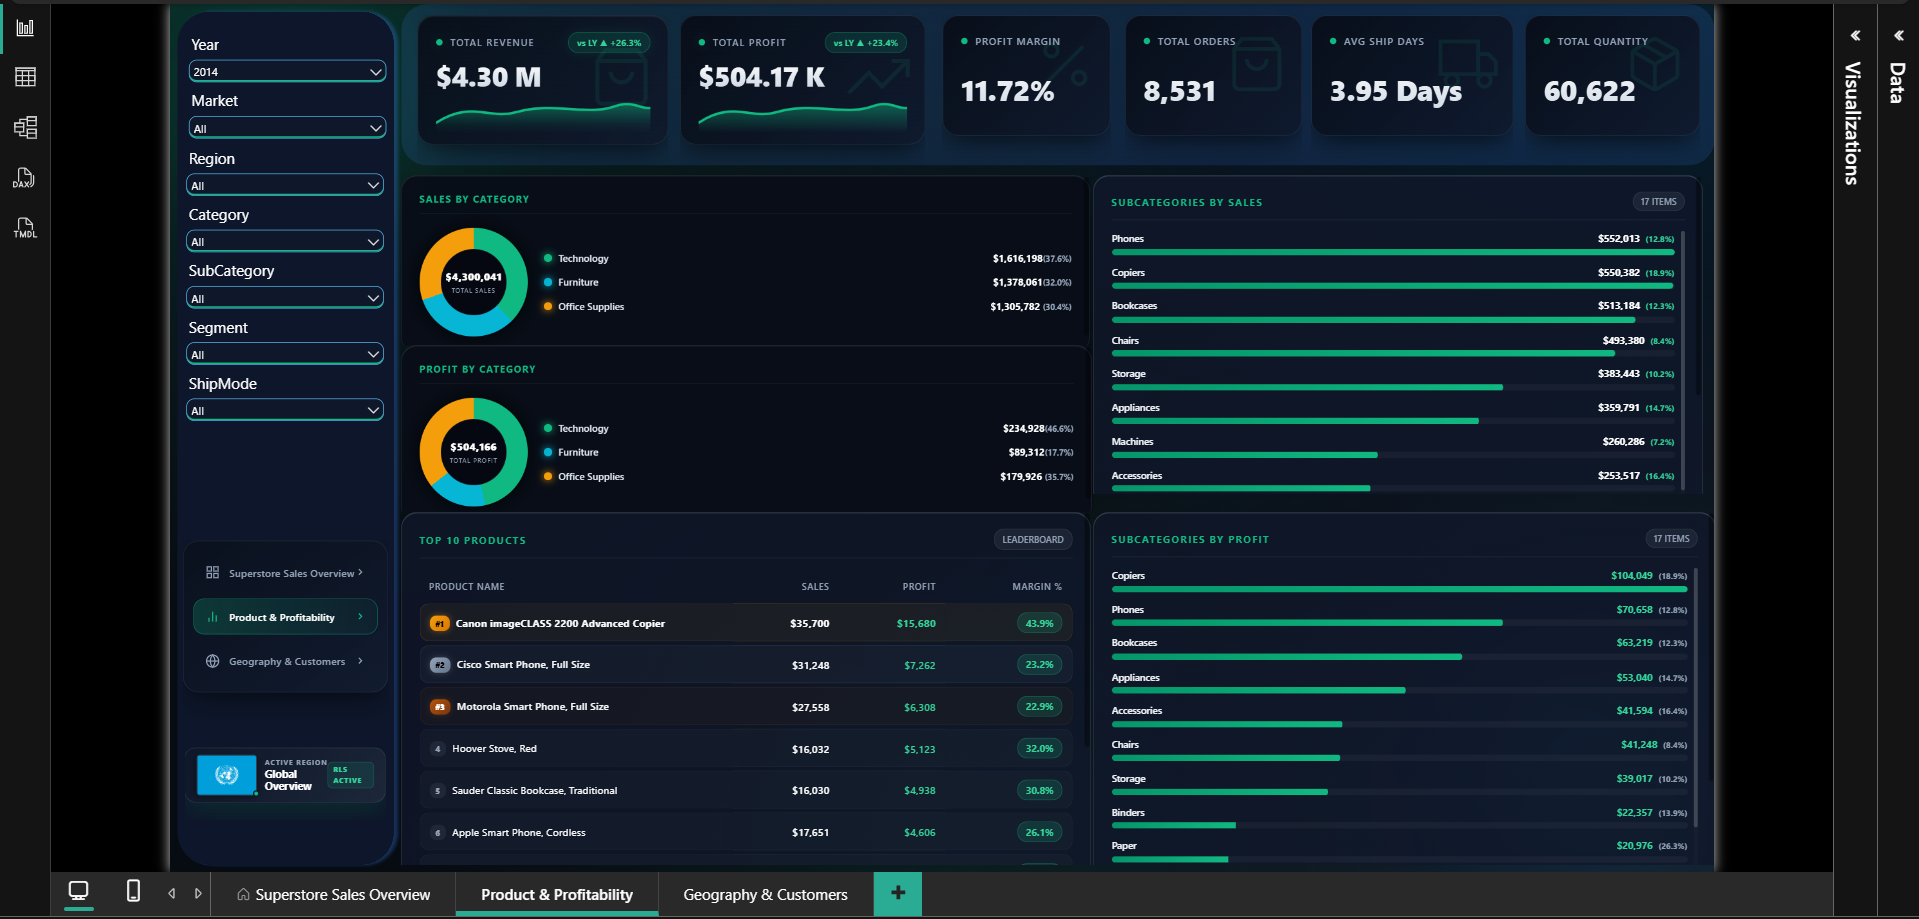

What the dashboard file says about the page in this screenshot:
{"tool":"powerbi","page":{"name":"Product & Profitability","canvas":[1920,1080],"ordinal":1},"visuals":[{"type":"shape","box":[0,0,288,1079.9],"z":0},{"type":"slicer","fields":{"Values":["dw DimDate.Year"]},"box":[18,37.8,255.6,70.2],"z":1000},{"type":"slicer","fields":{"Values":["dw DimGeography.Market"]},"box":[18,108,255.6,70.2],"z":2000},{"type":"slicer","fields":{"Values":["dw DimGeography.Region"]},"box":[16.2,178.2,255.6,70.2],"z":3000},{"type":"slicer","fields":{"Values":["dw DimProduct.Category"]},"box":[16.2,248.4,255.6,70.2],"z":4000},{"type":"slicer","fields":{"Values":["dw DimProduct.SubCategory"]},"box":[16.2,318.6,255.6,70.2],"z":5000},{"type":"slicer","fields":{"Values":["dw DimCustomer.Segment"]},"box":[16.2,388.8,255.6,70.2],"z":6000},{"type":"slicer","fields":{"Values":["dw DimShipping.ShipMode"]},"box":[16.2,458.9,255.6,66.6],"z":7000},{"type":"pageNavigator","box":[17,590.4,253.5,238.2],"z":8000},{"type":"cardVisual","fields":{"Data":["dw FactSales.Total Sales"]},"box":[304.4,14.4,291.8,187.3],"z":9000},{"type":"cardVisual","fields":{"Data":["dw FactSales.Total Profit"]},"box":[623.2,14.4,291.8,187.3],"z":10000},{"type":"cardVisual","fields":{"Data":["dw FactSales.Profit Margin %"]},"box":[943.8,14.4,291.8,187.3],"z":11000},{"type":"cardVisual","fields":{"Data":["dw FactSales.Orders"]},"box":[1266.2,14.4,291.8,187.3],"z":12000},{"type":"cardVisual","fields":{"Data":["dw FactSales.Total Quantity"]},"box":[1594,14.4,291.8,187.3],"z":13000},{"type":"lineChart","fields":{"Y":["dw FactSales.Total Sales"],"Category":["dw DimDate.Month"]},"box":[270.2,108.1,326,79.2],"z":14000},{"type":"lineChart","fields":{"Y":["dw FactSales.Total Profit"],"Category":["dw DimDate.Month"]},"box":[596.5,104.7,315.2,79.2],"z":15000},{"type":"donutChart","title":"Sales By Category","fields":{"Category":["dw DimProduct.Category"],"Y":["dw FactSales.Total Sales"]},"box":[287.8,198.8,734.3,259.9],"z":16000},{"type":"donutChart","fields":{"Category":["dw DimProduct.Category"],"Y":["dw FactSales.Total Profit"]},"box":[1088.9,197.4,775.8,275.6],"z":17000},{"type":"barChart","fields":{"Category":["dw DimProduct.SubCategory"],"Y":["dw FactSales.Total Sales"]},"box":[287.8,458.7,774.4,251.2],"z":18000},{"type":"barChart","fields":{"Category":["dw DimProduct.SubCategory"],"Y":["dw FactSales.Total Profit"]},"box":[1089.7,459.3,774.5,246.8],"z":19000},{"type":"tableEx","title":"TOP 10 Products","fields":{"Values":["dw DimProduct.ProductName","Sum(dw FactSales.Sales)","Sum(dw FactSales.Profit)","dw FactSales.Profit Margin %"]},"box":[304.6,710.1,1580.8,370.5],"z":20000}]}

Visuals, with their boxes on the page's 1920x1080 design canvas (x1, y1, x2, y2). These are canvas units, not pixel positions in the 1919x919 screenshot, which may show the page scaled, cropped or inside an application window:
shape: crop(0, 0, 288, 1080)
slicer - dw DimDate.Year: crop(18, 38, 274, 108)
slicer - dw DimGeography.Market: crop(18, 108, 274, 178)
slicer - dw DimGeography.Region: crop(16, 178, 272, 248)
slicer - dw DimProduct.Category: crop(16, 248, 272, 319)
slicer - dw DimProduct.SubCategory: crop(16, 319, 272, 389)
slicer - dw DimCustomer.Segment: crop(16, 389, 272, 459)
slicer - dw DimShipping.ShipMode: crop(16, 459, 272, 526)
pageNavigator: crop(17, 590, 270, 829)
cardVisual - dw FactSales.Total Sales: crop(304, 14, 596, 202)
cardVisual - dw FactSales.Total Profit: crop(623, 14, 915, 202)
cardVisual - dw FactSales.Profit Margin %: crop(944, 14, 1236, 202)
cardVisual - dw FactSales.Orders: crop(1266, 14, 1558, 202)
cardVisual - dw FactSales.Total Quantity: crop(1594, 14, 1886, 202)
lineChart - dw FactSales.Total Sales x dw DimDate.Month: crop(270, 108, 596, 187)
lineChart - dw FactSales.Total Profit x dw DimDate.Month: crop(596, 105, 912, 184)
"Sales By Category" donutChart: crop(288, 199, 1022, 459)
donutChart - dw DimProduct.Category x dw FactSales.Total Profit: crop(1089, 197, 1865, 473)
barChart - dw DimProduct.SubCategory x dw FactSales.Total Sales: crop(288, 459, 1062, 710)
barChart - dw DimProduct.SubCategory x dw FactSales.Total Profit: crop(1090, 459, 1864, 706)
"TOP 10 Products" tableEx: crop(305, 710, 1885, 1081)
